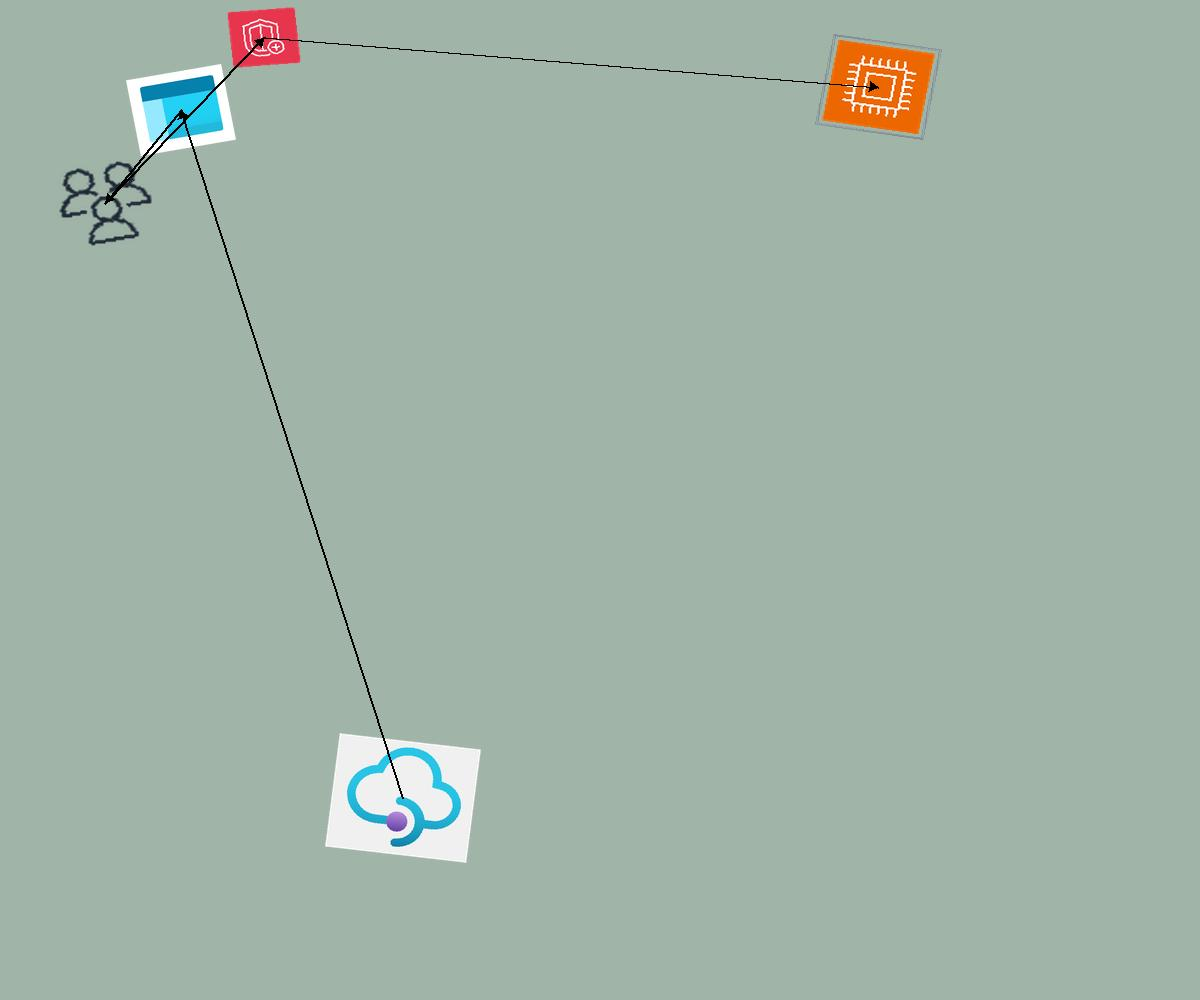AWS-Category_Compute: (814, 33, 943, 141)
AWS-Res_Users: (45, 153, 166, 254)
AWS-Shield: (227, 7, 301, 68)
Azure_api_gateway: (325, 733, 481, 863)
Azure_management-portal: (126, 64, 236, 156)
